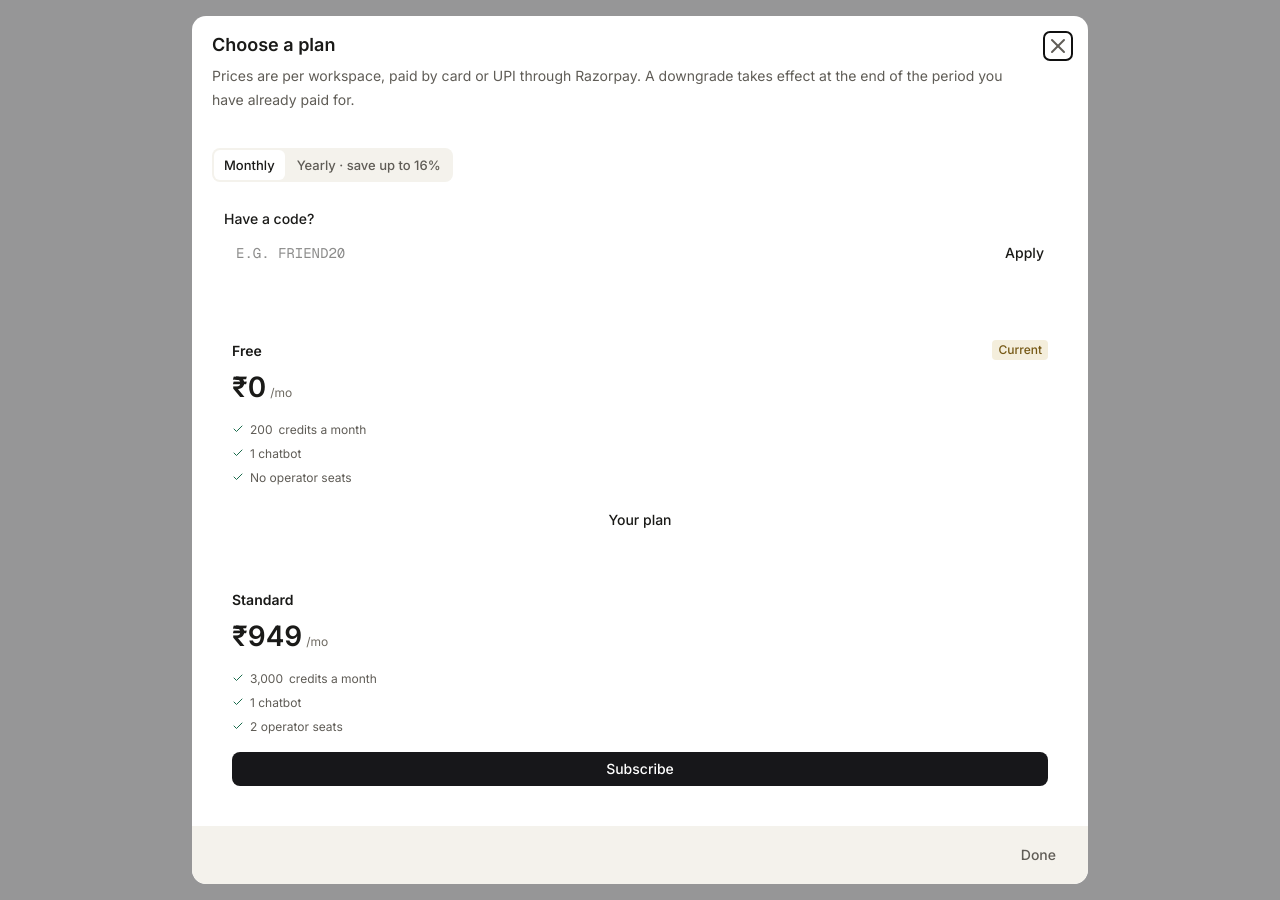
Test: pricing › leads with the per-month equivalent on the yearly cycle and names the yearly total
Click the radio button labelled "Yearly · save up to 16%" at (369,165), box [287,150,451,180]
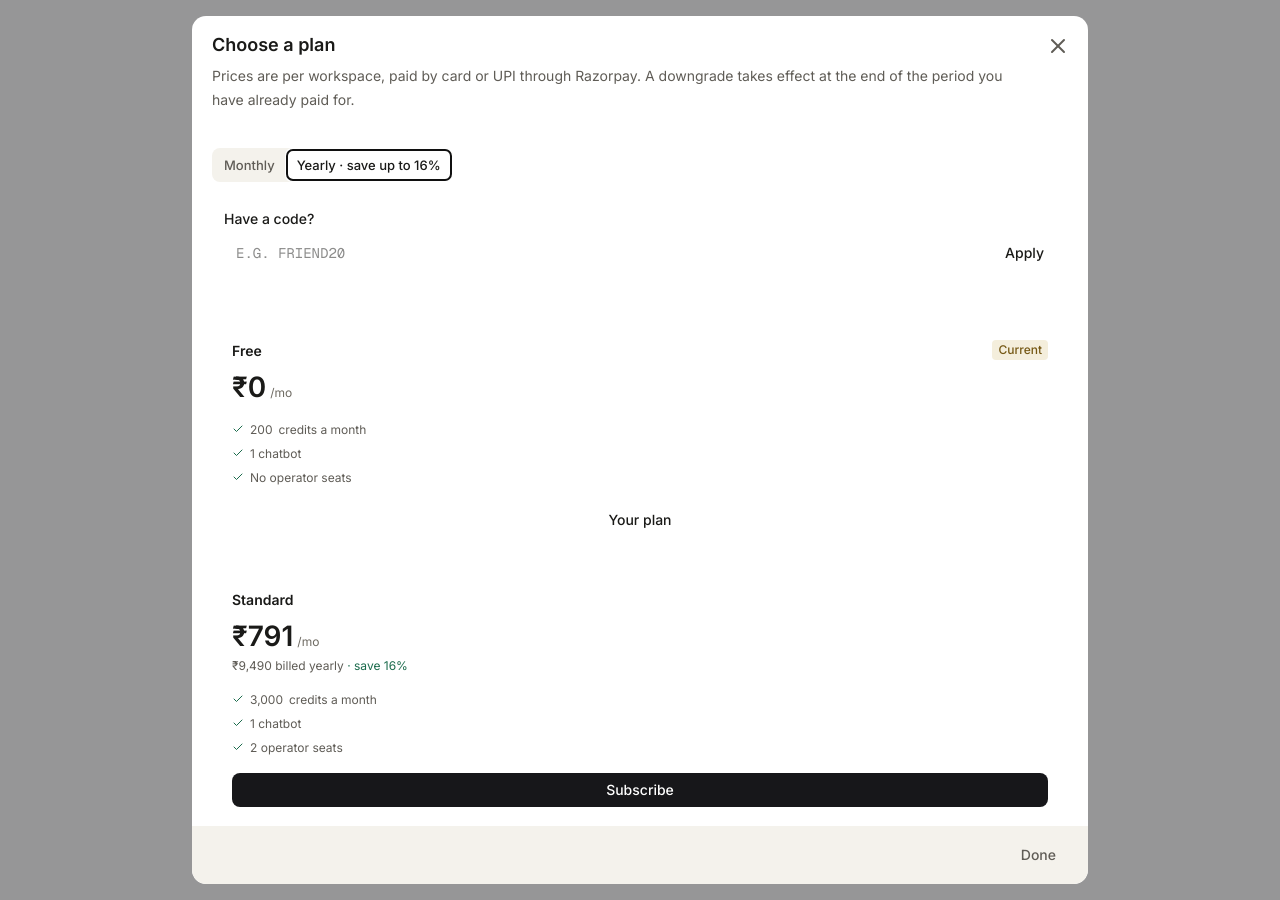
Result: the text "₹791" is shown at [232,619,293,653]
Result: the text "₹9,490 billed yearly · save 16%" is shown at [232,658,408,673]
Result: the text "₹949" is gone
